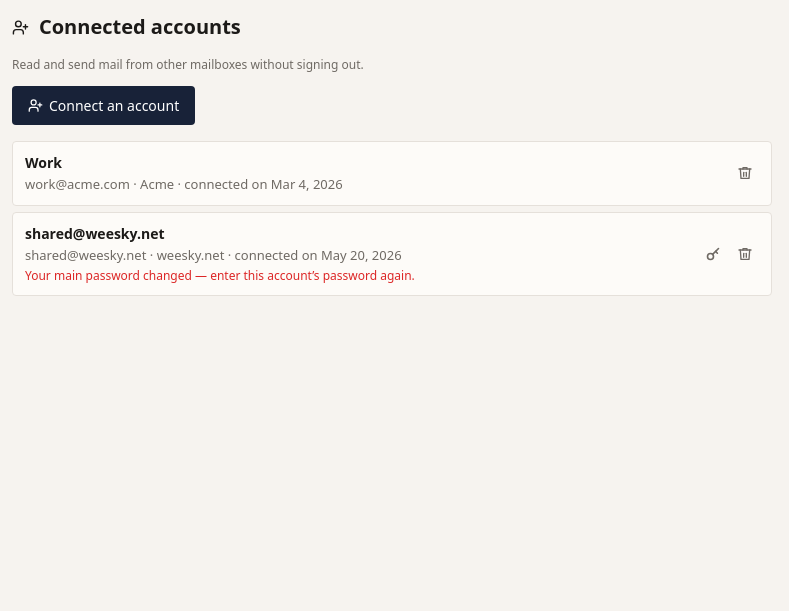
ConnectedAccountsPage › shows a refused connection in the form and keeps it open
The image size is (789, 611).
Click the button "Connect an account": (104, 106) [12,86,195,125]
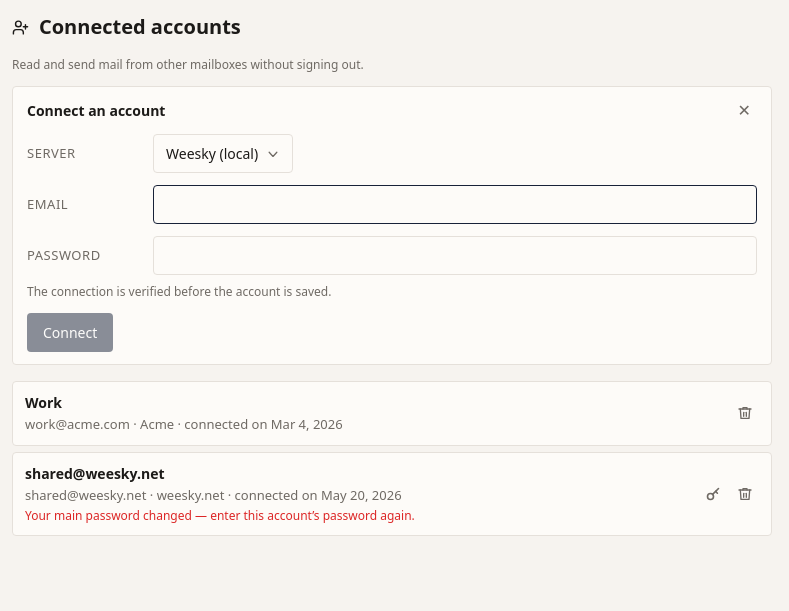
In the field labelled "Email": (455, 204) [153,185,757,224], type "other@weesky.net"
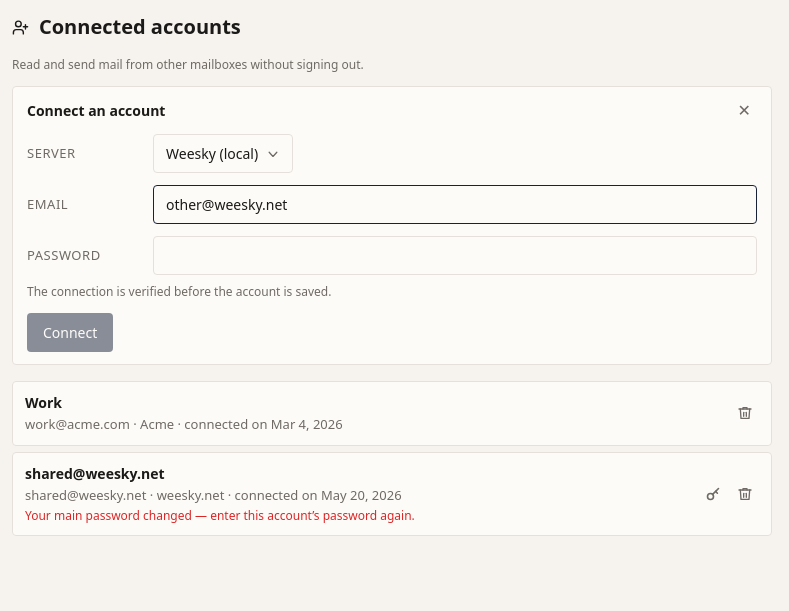
In the password field labelled "Password": (455, 256) [153,236,757,275], type "wrong"
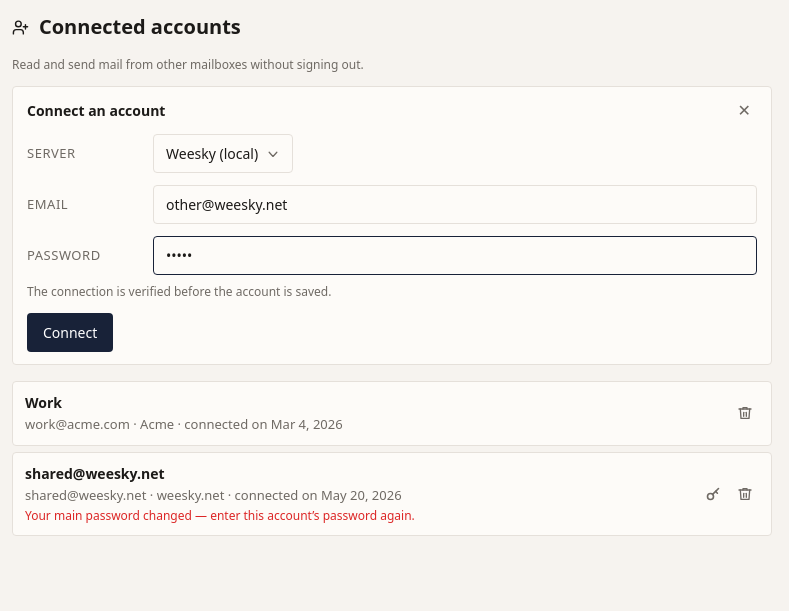
Click the button "Connect": (70, 332) [27,313,113,352]
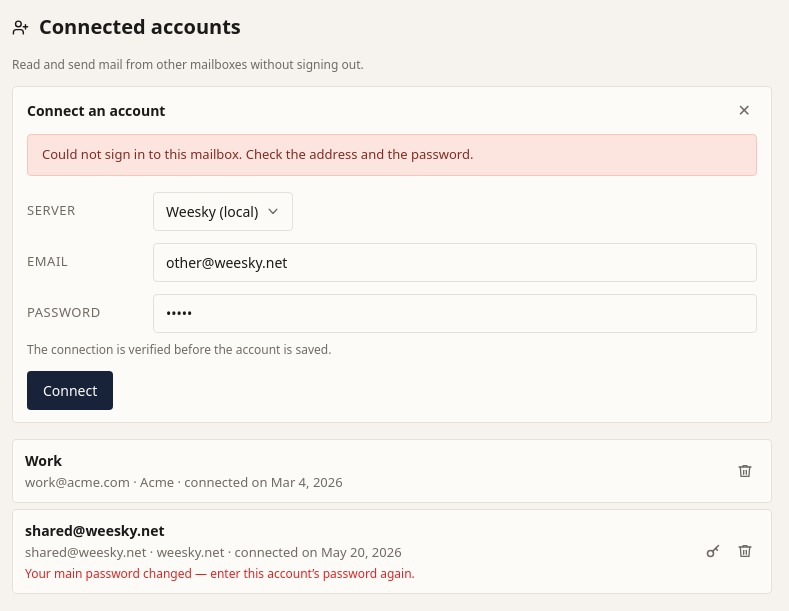
Expected: the message reads "Could not sign in to this mailbox. Check the address and the password.", [42,145,473,163]
